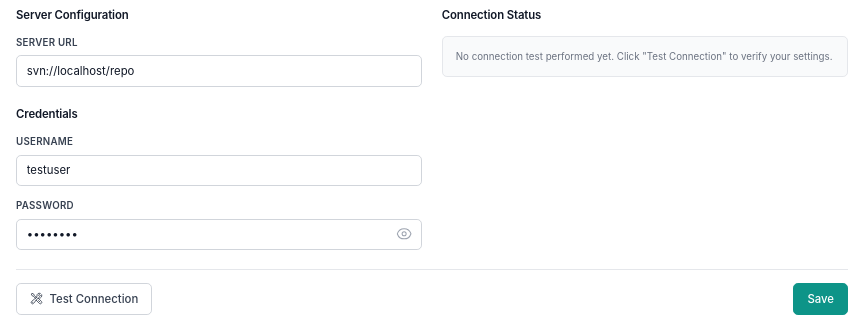
ConnectionConfigView › handles connection test error
The width and height of the screenshot is (865, 332).
Step 1. Click the button "Test Connection" → {"x": 84, "y": 299}, box [16,283,152,315]
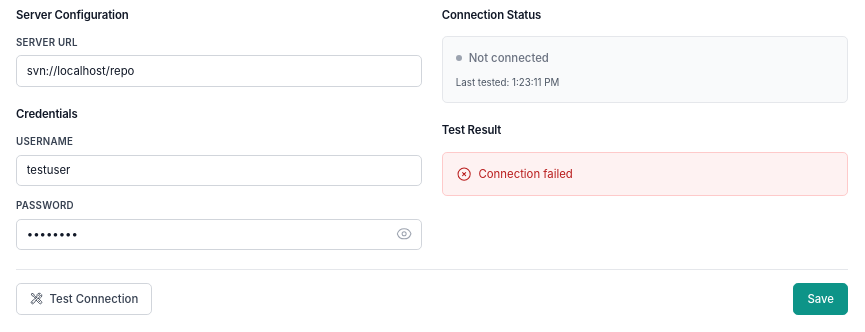
expect the text "Connection failed" is shown: met, box [478,166,573,182]
